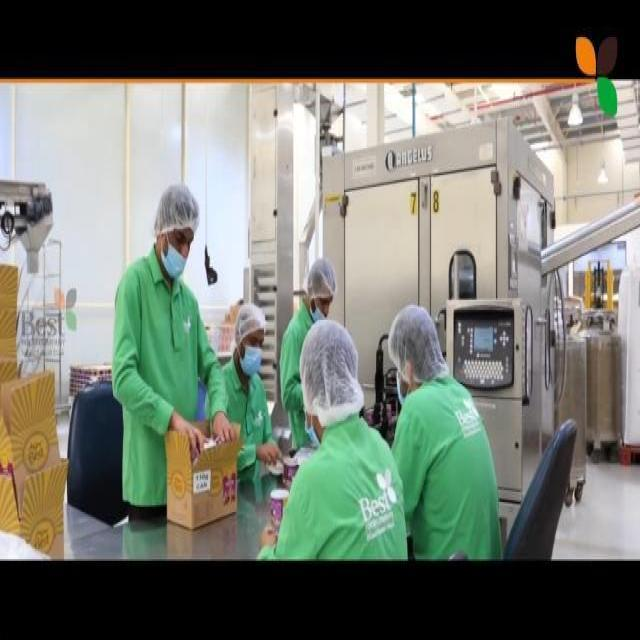bare_hand: (168, 406, 209, 461), (208, 399, 239, 465), (252, 433, 292, 480)
